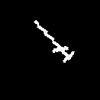double_crochet: (35, 21, 73, 61)
